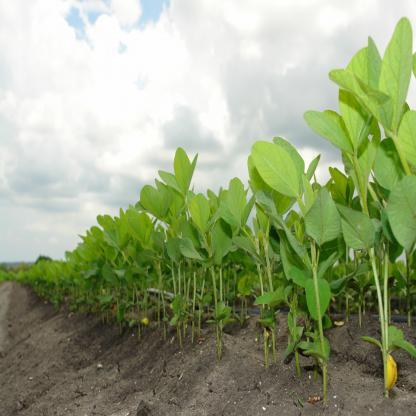Soyabean leaf: (250, 139, 302, 197), (304, 185, 340, 247), (336, 201, 376, 256), (305, 278, 331, 321), (210, 217, 232, 261), (227, 178, 247, 226), (140, 184, 166, 220), (174, 145, 192, 192), (191, 193, 210, 232), (179, 238, 205, 262), (128, 219, 144, 244)
